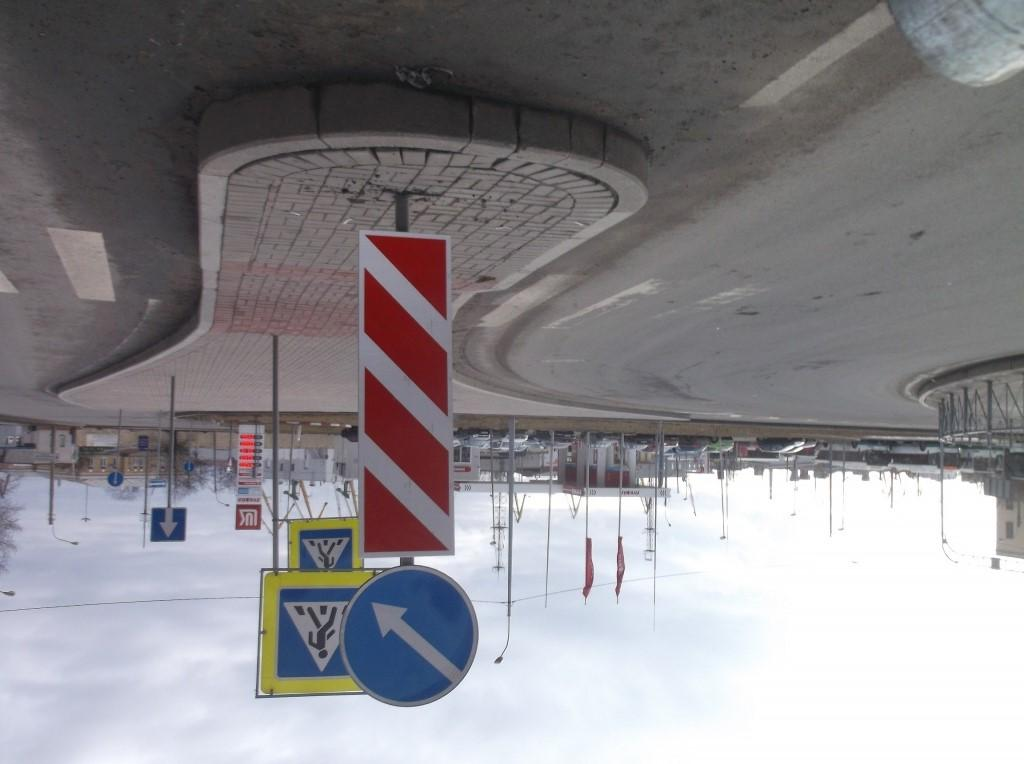obstructed_road_sign: (259, 571, 375, 695), (288, 519, 364, 569)
road_sign: (358, 228, 456, 558), (338, 564, 479, 707), (151, 508, 186, 542)
